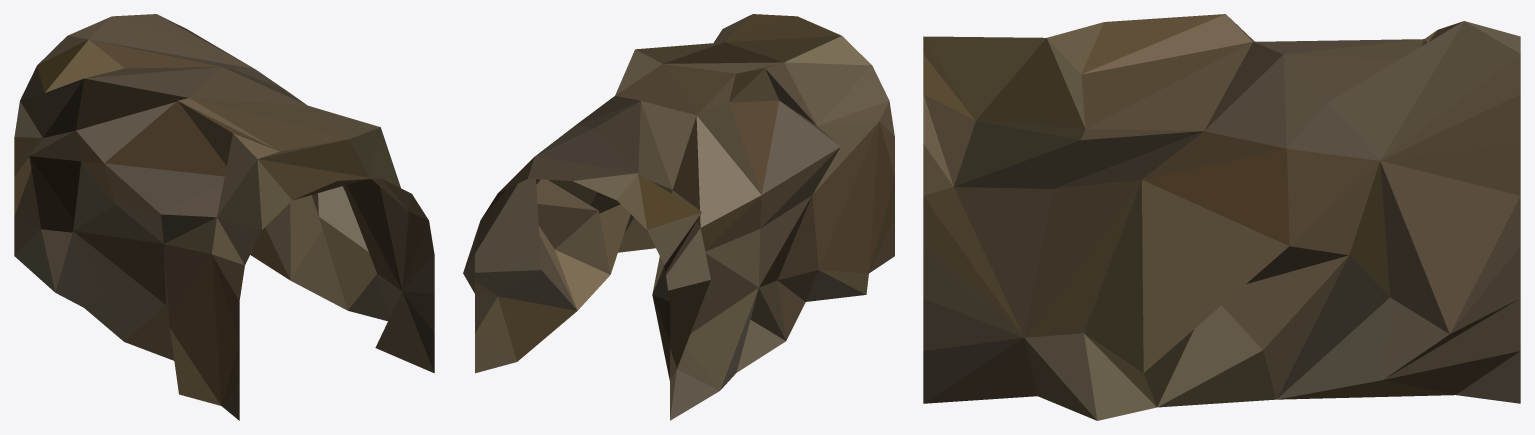
Rendered from Cave-Hall10mB.fbx.
The picture shows the model from 3 angles, left to right: view 1: azimuth 30°, elevation 25°; view 2: azimuth 150°, elevation 25°; view 3: azimuth 270°, elevation 25°; orthographic projection. The views are drawn at different scales.
Parts seen in each view (by area): view 1: Cave-Hall10mB; view 2: Cave-Hall10mB; view 3: Cave-Hall10mB.
Boxes of the visible parts, left/top/right/bottom form: Cave-Hall10mB: left=14, top=14, right=434, bottom=420; Cave-Hall10mB: left=463, top=14, right=894, bottom=420; Cave-Hall10mB: left=923, top=14, right=1520, bottom=420.
Size of the model in its own units: 640 by 559 by 1000.
